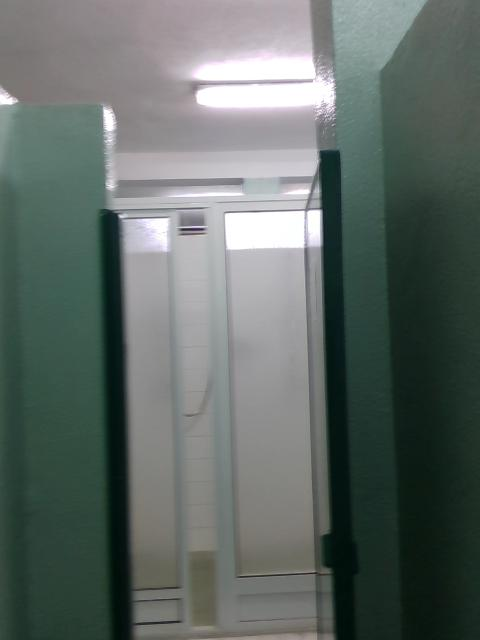open_door: (104, 149, 355, 638)
